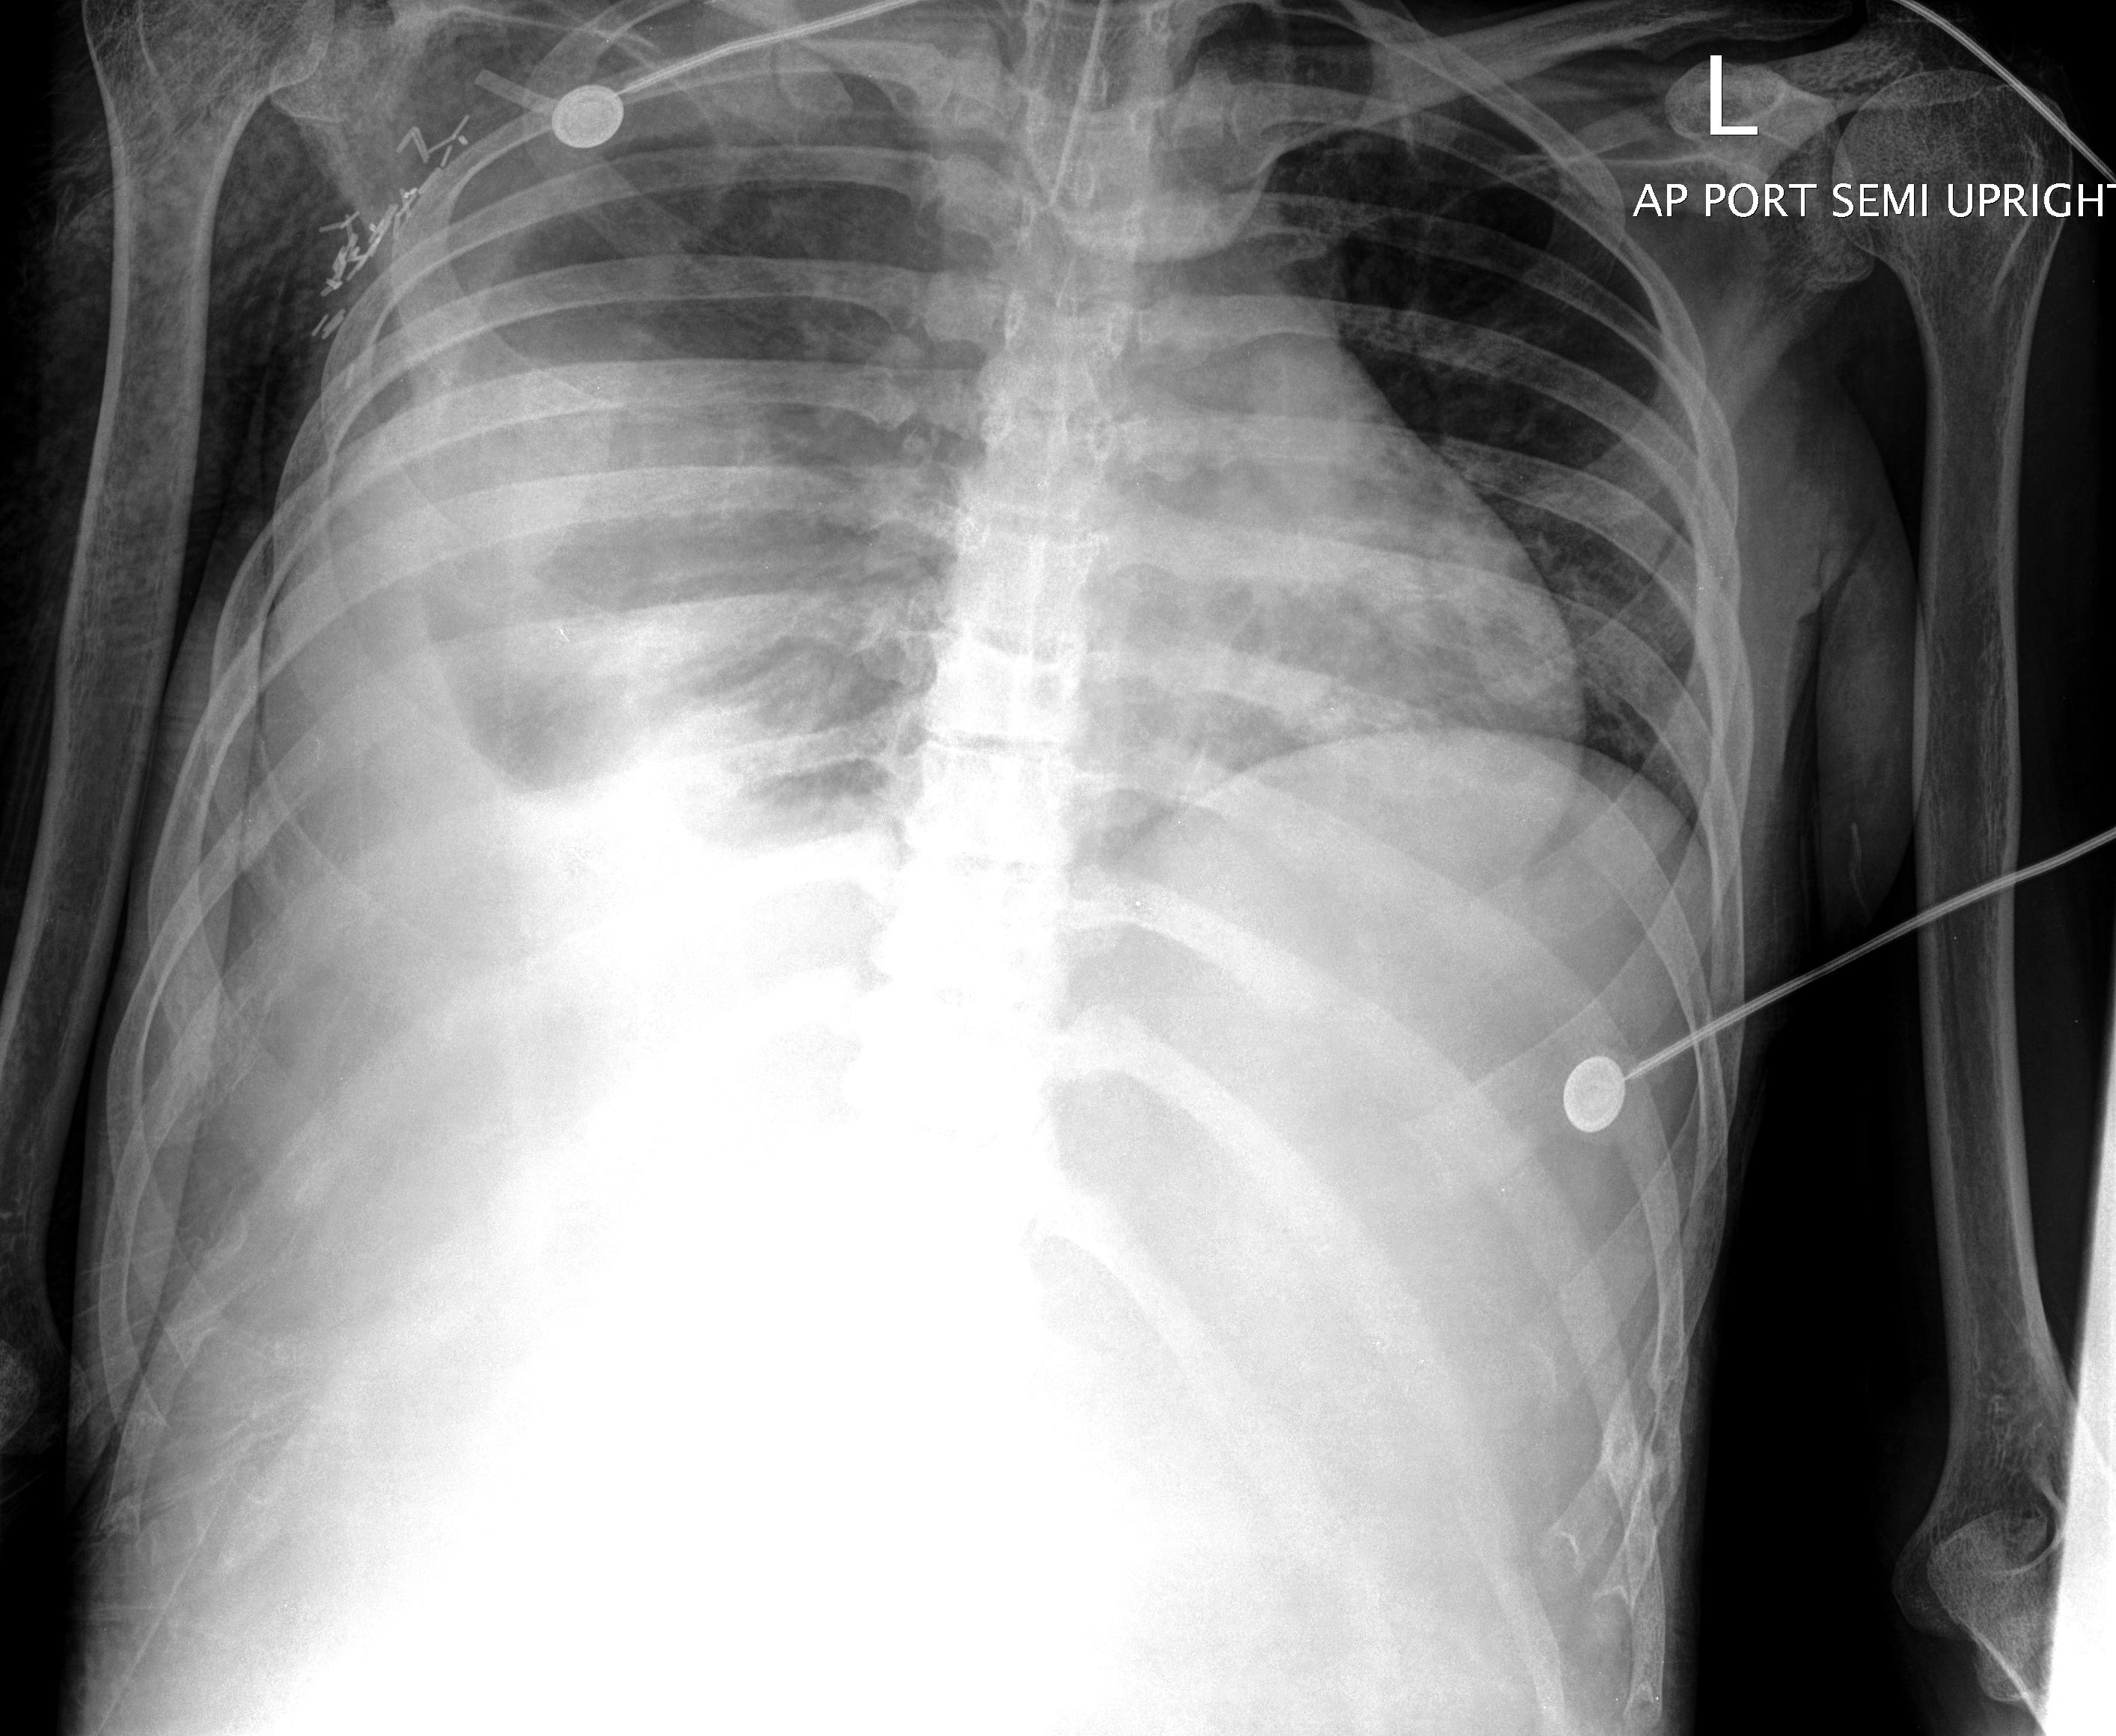Pleural Effusion: (170, 557, 726, 1232)
